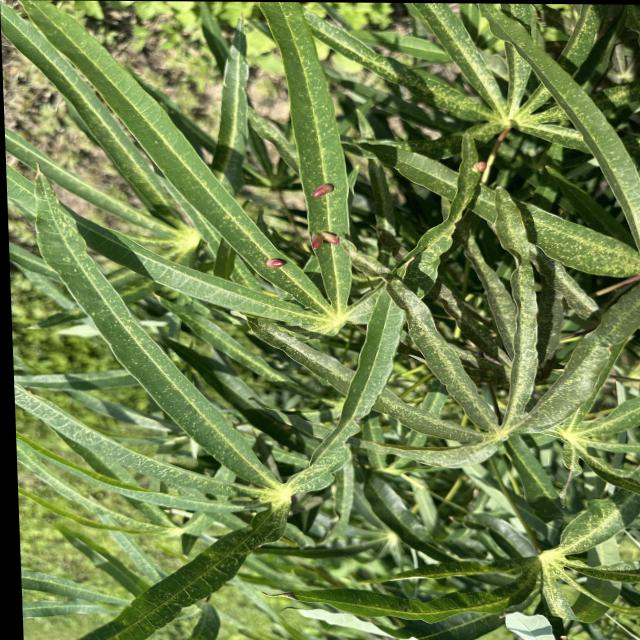Mosca: (251, 220, 307, 278), (304, 171, 371, 213), (295, 211, 352, 260), (460, 139, 501, 194)
